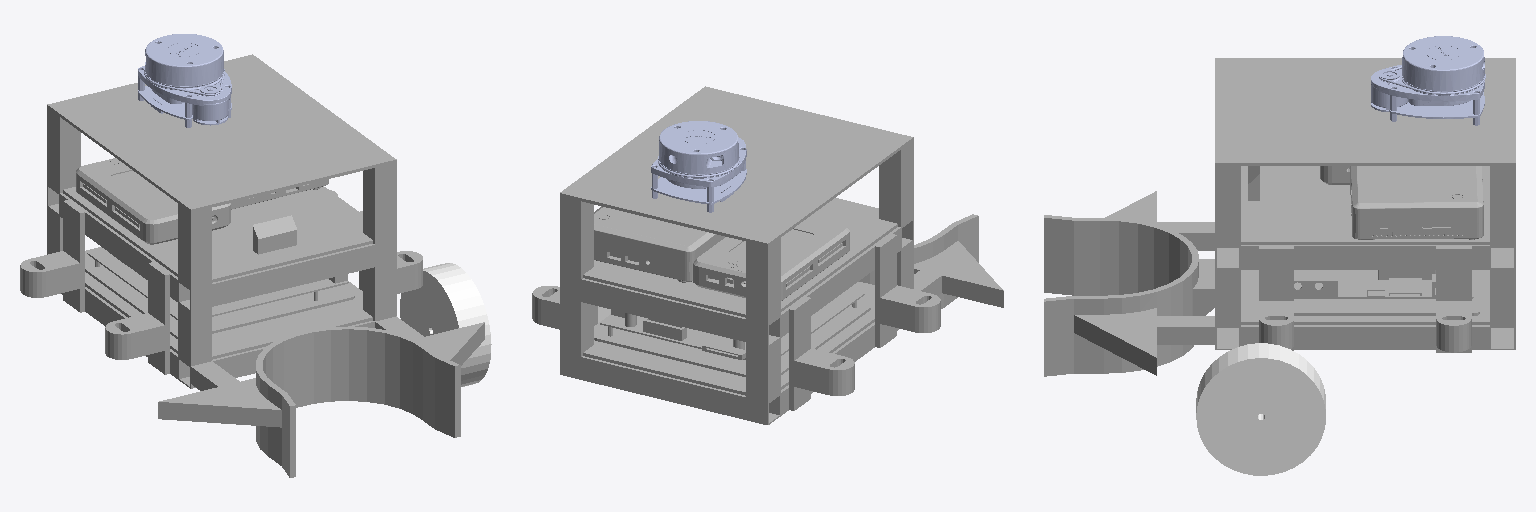
robot.urdf — lide:
<?xml version="1.0" encoding="utf-8"?>
<!-- This URDF was automatically created by SolidWorks to URDF Exporter! Originally created by [author] ([email redacted]) 
     Commit Version: 1.5.1-0-g916b5db  Build Version: 1.5.7152.31018
     For more information, please see http://wiki.ros.org/sw_urdf_exporter -->
<robot
  name="lide">
  <link
    name="base_link">
    <inertial>
      <origin
        xyz="0.10683 0.11719 0.069801"
        rpy="0 0 0" />
      <mass
        value="3.0098" />
      <inertia
        ixx="0.005814"
        ixy="4.3391E-07"
        ixz="-4.291E-07"
        iyy="0.0067269"
        iyz="-7.9314E-06"
        izz="0.011765" />
    </inertial>
    <visual>
      <origin
        xyz="0 0 0"
        rpy="0 0 0" />
      <geometry>
        <mesh
          filename="package://lide/meshes/base_link.STL" />
      </geometry>
      <material
        name="">
        <color
          rgba="0.75294 0.75294 0.75294 1" />
      </material>
    </visual>
    <collision>
      <origin
        xyz="0 0 0"
        rpy="0 0 0" />
      <geometry>
        <mesh
          filename="package://lide/meshes/base_link.STL" />
      </geometry>
    </collision>
  </link>
  <link
    name="LFS">
    <inertial>
      <origin
        xyz="0.04556 0.0083094 0.0029762"
        rpy="0 0 0" />
      <mass
        value="0.072793" />
      <inertia
        ixx="2.2093E-05"
        ixy="-1.6485E-08"
        ixz="-1.5645E-07"
        iyy="1.6263E-05"
        iyz="2.9641E-09"
        izz="1.8084E-05" />
    </inertial>
    <visual>
      <origin
        xyz="0 0 0"
        rpy="0 0 0" />
      <geometry>
        <mesh
          filename="package://lide/meshes/LFS.STL" />
      </geometry>
      <material
        name="">
        <color
          rgba="0.75294 0.75294 0.75294 1" />
      </material>
    </visual>
    <collision>
      <origin
        xyz="0 0 0"
        rpy="0 0 0" />
      <geometry>
        <mesh
          filename="package://lide/meshes/LFS.STL" />
      </geometry>
    </collision>
  </link>
  <joint
    name="LFS"
    type="fixed">
    <origin
      xyz="0.20441 0.054044 -0.014503"
      rpy="1.5708 0 0" />
    <parent
      link="base_link" />
    <child
      link="LFS" />
    <axis
      xyz="0 0 0" />
  </joint>
  <link
    name="LFW">
    <inertial>
      <origin
        xyz="0.015 3.4694E-18 6.9389E-18"
        rpy="0 0 0" />
      <mass
        value="0.28979" />
      <inertia
        ixx="0.00043983"
        ixy="-2.141E-37"
        ixz="2.6413E-37"
        iyy="0.00024165"
        iyz="-1.3553E-20"
        izz="0.00024165" />
    </inertial>
    <visual>
      <origin
        xyz="0 0 0"
        rpy="0 0 0" />
      <geometry>
        <mesh
          filename="package://lide/meshes/LFW.STL" />
      </geometry>
      <material
        name="">
        <color
          rgba="1 1 1 1" />
      </material>
    </visual>
    <collision>
      <origin
        xyz="0 0 0"
        rpy="0 0 0" />
      <geometry>
        <mesh
          filename="package://lide/meshes/LFW.STL" />
      </geometry>
    </collision>
  </link>
  <joint
    name="LFW"
    type="continuous">
    <origin
      xyz="0.063346 -0.006798 0.015044"
      rpy="-0.70365 0 0" />
    <parent
      link="LFS" />
    <child
      link="LFW" />
    <axis
      xyz="1 0 0" />
  </joint>
  <link
    name="RFS">
    <inertial>
      <origin
        xyz="-0.019183 -0.0090093 0.052006"
        rpy="0 0 0" />
      <mass
        value="0.072793" />
      <inertia
        ixx="2.2093E-05"
        ixy="-1.6485E-08"
        ixz="1.5645E-07"
        iyy="1.6263E-05"
        iyz="-2.9641E-09"
        izz="1.8084E-05" />
    </inertial>
    <visual>
      <origin
        xyz="0 0 0"
        rpy="0 0 0" />
      <geometry>
        <mesh
          filename="package://lide/meshes/RFS.STL" />
      </geometry>
      <material
        name="">
        <color
          rgba="0.75294 0.75294 0.75294 1" />
      </material>
    </visual>
    <collision>
      <origin
        xyz="0 0 0"
        rpy="0 0 0" />
      <geometry>
        <mesh
          filename="package://lide/meshes/RFS.STL" />
      </geometry>
    </collision>
  </link>
  <joint
    name="RFS"
    type="fixed">
    <origin
      xyz="-0.020784 0.10307 0.0027844"
      rpy="1.5708 0 0" />
    <parent
      link="base_link" />
    <child
      link="RFS" />
    <axis
      xyz="0 0 0" />
  </joint>
  <link
    name="RFW">
    <inertial>
      <origin
        xyz="-0.015 0 0"
        rpy="0 0 0" />
      <mass
        value="0.28979" />
      <inertia
        ixx="0.00043983"
        ixy="-4.6524E-37"
        ixz="1.7402E-39"
        iyy="0.00024165"
        iyz="3.024E-39"
        izz="0.00024165" />
    </inertial>
    <visual>
      <origin
        xyz="0 0 0"
        rpy="0 0 0" />
      <geometry>
        <mesh
          filename="package://lide/meshes/RFW.STL" />
      </geometry>
      <material
        name="">
        <color
          rgba="1 1 1 1" />
      </material>
    </visual>
    <collision>
      <origin
        xyz="0 0 0"
        rpy="0 0 0" />
      <geometry>
        <mesh
          filename="package://lide/meshes/RFW.STL" />
      </geometry>
    </collision>
  </link>
  <joint
    name="RFW"
    type="continuous">
    <origin
      xyz="-0.036969 -0.024084 0.064073"
      rpy="0 0 0" />
    <parent
      link="RFS" />
    <child
      link="RFW" />
    <axis
      xyz="1 0 0" />
    <limit
      effort="3.1"
      velocity="7" />
  </joint>
  <link
    name="LBS">
    <inertial>
      <origin
        xyz="0 -0.045029 0"
        rpy="0 0 0" />
      <mass
        value="0.44204" />
      <inertia
        ixx="0.00028466"
        ixy="8.4824E-23"
        ixz="-7.0058E-22"
        iyy="0.00017531"
        iyz="1.5552E-21"
        izz="0.0002841" />
    </inertial>
    <visual>
      <origin
        xyz="0 0 0"
        rpy="0 0 0" />
      <geometry>
        <mesh
          filename="package://lide/meshes/LBS.STL" />
      </geometry>
      <material
        name="">
        <color
          rgba="0.89804 0.91765 0.92941 1" />
      </material>
    </visual>
    <collision>
      <origin
        xyz="0 0 0"
        rpy="0 0 0" />
      <geometry>
        <mesh
          filename="package://lide/meshes/LBS.STL" />
      </geometry>
    </collision>
  </link>
  <joint
    name="LBS"
    type="fixed">
    <origin
      xyz="0.25 0.202 0.0087742"
      rpy="1.5708 0 0" />
    <parent
      link="base_link" />
    <child
      link="LBS" />
    <axis
      xyz="0 0 0" />
  </joint>
  <link
    name="RBS">
    <inertial>
      <origin
        xyz="0 -0.045029 2.7756E-17"
        rpy="0 0 0" />
      <mass
        value="0.44204" />
      <inertia
        ixx="0.00028466"
        ixy="-1.2721E-21"
        ixz="-4.8787E-23"
        iyy="0.00017531"
        iyz="1.46E-21"
        izz="0.0002841" />
    </inertial>
    <visual>
      <origin
        xyz="0 0 0"
        rpy="0 0 0" />
      <geometry>
        <mesh
          filename="package://lide/meshes/RBS.STL" />
      </geometry>
      <material
        name="">
        <color
          rgba="0.89804 0.91765 0.92941 1" />
      </material>
    </visual>
    <collision>
      <origin
        xyz="0 0 0"
        rpy="0 0 0" />
      <geometry>
        <mesh
          filename="package://lide/meshes/RBS.STL" />
      </geometry>
    </collision>
  </link>
  <joint
    name="RBS"
    type="fixed">
    <origin
      xyz="-0.040003 0.202 0.0087742"
      rpy="1.5708 0 0" />
    <parent
      link="base_link" />
    <child
      link="RBS" />
    <axis
      xyz="0 0 0" />
  </joint>
  <link
    name="fcam">
    <inertial>
      <origin
        xyz="0.00044553 -1.1063E-05 0.0012982"
        rpy="0 0 0" />
      <mass
        value="0.043612" />
      <inertia
        ixx="2.3571E-05"
        ixy="-1.0181E-09"
        ixz="2.1758E-08"
        iyy="4.2948E-06"
        iyz="-8.8579E-10"
        izz="2.2106E-05" />
    </inertial>
    <visual>
      <origin
        xyz="0 0 0"
        rpy="0 0 0" />
      <geometry>
        <mesh
          filename="package://lide/meshes/fcam.STL" />
      </geometry>
      <material
        name="">
        <color
          rgba="0.79216 0.81961 0.93333 1" />
      </material>
    </visual>
    <collision>
      <origin
        xyz="0 0 0"
        rpy="0 0 0" />
      <geometry>
        <mesh
          filename="package://lide/meshes/fcam.STL" />
      </geometry>
    </collision>
  </link>
  <joint
    name="fcam"
    type="fixed">
    <origin
      xyz="0.10501 0.012 0.15699"
      rpy="0 0 -1.5708" />
    <parent
      link="base_link" />
    <child
      link="fcam" />
    <axis
      xyz="0 0 0" />
  </joint>
  <link
    name="bcam">
    <inertial>
      <origin
        xyz="0.00044553 -1.1063E-05 0.0012982"
        rpy="0 0 0" />
      <mass
        value="0.043612" />
      <inertia
        ixx="2.3571E-05"
        ixy="-1.0183E-09"
        ixz="2.1758E-08"
        iyy="4.2948E-06"
        iyz="-8.8548E-10"
        izz="2.2106E-05" />
    </inertial>
    <visual>
      <origin
        xyz="0 0 0"
        rpy="0 0 0" />
      <geometry>
        <mesh
          filename="package://lide/meshes/bcam.STL" />
      </geometry>
      <material
        name="">
        <color
          rgba="0.79216 0.81961 0.93333 1" />
      </material>
    </visual>
    <collision>
      <origin
        xyz="0 0 0"
        rpy="0 0 0" />
      <geometry>
        <mesh
          filename="package://lide/meshes/bcam.STL" />
      </geometry>
    </collision>
  </link>
  <joint
    name="bcam"
    type="fixed">
    <origin
      xyz="0.10501 0.020581 0.12171"
      rpy="0 0.7854 -1.5708" />
    <parent
      link="base_link" />
    <child
      link="bcam" />
    <axis
      xyz="0 0 0" />
  </joint>
  <link
    name="Lidar">
    <inertial>
      <origin
        xyz="0.013523 0.00046196 -0.028765"
        rpy="0 0 0" />
      <mass
        value="0.073085" />
      <inertia
        ixx="1.9581E-05"
        ixy="-1.0393E-07"
        ixz="-4.2839E-07"
        iyy="2.4125E-05"
        iyz="9.4271E-09"
        izz="4.1418E-05" />
    </inertial>
    <visual>
      <origin
        xyz="0 0 0"
        rpy="0 0 0" />
      <geometry>
        <mesh
          filename="package://lide/meshes/Lidar.STL" />
      </geometry>
      <material
        name="">
        <color
          rgba="0.79216 0.81961 0.93333 1" />
      </material>
    </visual>
    <collision>
      <origin
        xyz="0 0 0"
        rpy="0 0 0" />
      <geometry>
        <mesh
          filename="package://lide/meshes/Lidar.STL" />
      </geometry>
    </collision>
  </link>
  <joint
    name="Lidar"
    type="fixed">
    <origin
      xyz="0.10401 0.19458 0.2285"
      rpy="0 0 -1.5708" />
    <parent
      link="base_link" />
    <child
      link="Lidar" />
    <axis
      xyz="0 0 0" />
  </joint>
</robot>

--- Facts derived from the render (not from the file) ---
The picture shows the robot from 3 angles, left to right: view 1: azimuth 30°, elevation 25°; view 2: azimuth 150°, elevation 25°; view 3: azimuth 270°, elevation 25°; orthographic projection.
Model lide with 10 links and 9 joints (2 continuous, 7 fixed), rooted at base_link, posed every joint at zero.
Visible links, largest first — view 1: base_link, Lidar, LFW; view 2: base_link, Lidar; view 3: base_link, LFW, Lidar.
Boxes of the visible links, <box> form: base_link: <box>20,54,484,477</box>; Lidar: <box>138,34,231,127</box>; LFW: <box>400,263,491,386</box>; base_link: <box>532,86,1003,424</box>; Lidar: <box>651,121,746,212</box>; base_link: <box>1044,58,1515,376</box>; LFW: <box>1196,343,1325,475</box>; Lidar: <box>1371,36,1485,125</box>.
Bounding box of the posed robot: 0.3598 × 0.3983 × 0.3048 m (x, y, z).
3 mesh visuals loaded from 10 distinct referenced files (3 binary STL); not drawn: 7 (reference not matched to a file when rendering).